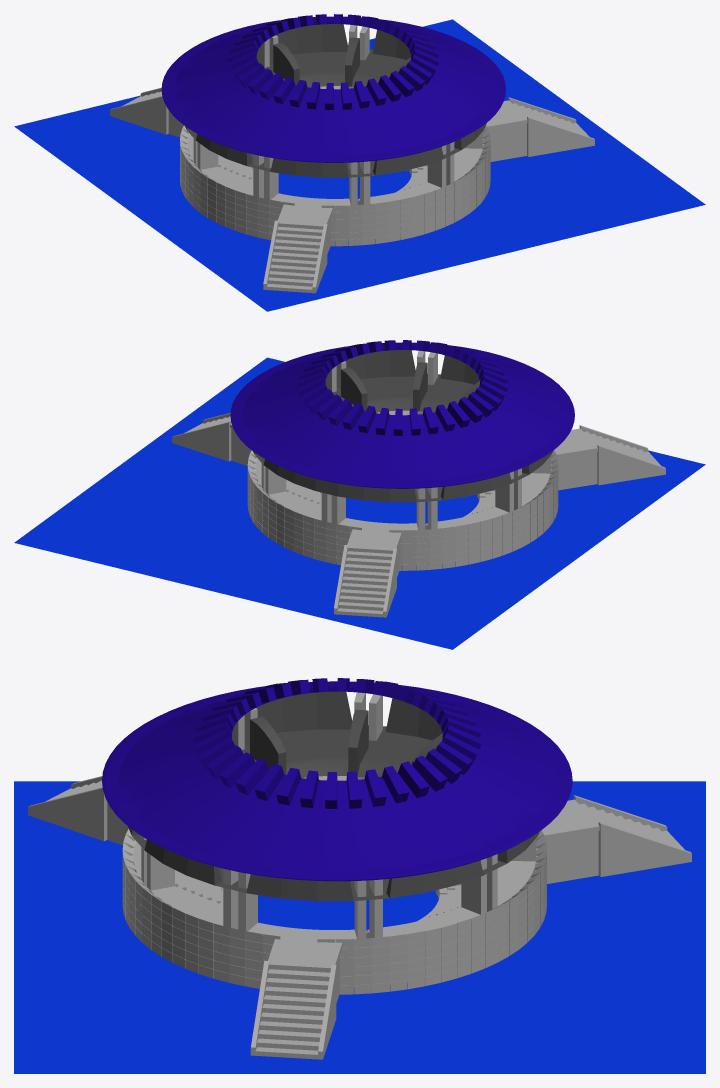
The model's file is stadium_blue.fbx.
The picture shows the model from 3 angles, top to bottom: view 1: azimuth 30°, elevation 25°; view 2: azimuth 150°, elevation 25°; view 3: azimuth 270°, elevation 25°; orthographic projection. The views are drawn at different scales.
Visible parts, largest first — view 1: ten_ten2, Cylinder001, Cylinder002, Box001, LTypeStair002, Box003, LTypeStair003, Box002, Box007, LTypeStair001, Box004; view 2: ten_ten2, Cylinder001, Cylinder002, Box004, LTypeStair001, LTypeStair002, Box008, Box009, Box003, LTypeStair003, Box005; view 3: ten_ten2, Cylinder001, Cylinder002, Box005, LTypeStair003, LTypeStair001, Box007, Box006, Box008, LTypeStair002, Box001.
Boxes of the visible parts, bbox=[...] form: ten_ten2: bbox=[14, 19, 705, 311]; Cylinder001: bbox=[161, 14, 505, 162]; Cylinder002: bbox=[185, 24, 486, 177]; Box001: bbox=[357, 145, 454, 245]; LTypeStair002: bbox=[263, 204, 332, 293]; Box003: bbox=[189, 142, 263, 237]; LTypeStair003: bbox=[486, 97, 594, 161]; Box002: bbox=[257, 156, 362, 246]; Box007: bbox=[395, 132, 490, 222]; LTypeStair001: bbox=[110, 87, 183, 137]; Box004: bbox=[180, 125, 253, 202]; ten_ten2: bbox=[14, 357, 705, 649]; Cylinder001: bbox=[230, 340, 574, 488]; Cylinder002: bbox=[253, 350, 552, 502]; Box004: bbox=[425, 471, 521, 569]; LTypeStair001: bbox=[334, 529, 401, 617]; LTypeStair002: bbox=[554, 425, 665, 490]; Box008: bbox=[257, 467, 331, 561]; Box009: bbox=[325, 488, 429, 570]; Box003: bbox=[464, 456, 558, 547]; LTypeStair003: bbox=[172, 412, 251, 465]; Box005: bbox=[247, 450, 321, 527]; ten_ten2: bbox=[14, 781, 705, 1073]; Cylinder001: bbox=[102, 678, 572, 881]; Cylinder002: bbox=[128, 691, 539, 901]; Box005: bbox=[366, 858, 497, 993]; LTypeStair003: bbox=[250, 938, 342, 1059]; LTypeStair001: bbox=[542, 795, 691, 883]; Box007: bbox=[135, 852, 238, 982]; Box006: bbox=[229, 872, 372, 994]; Box008: bbox=[417, 838, 546, 962]; LTypeStair002: bbox=[28, 776, 128, 845]; Box001: bbox=[122, 829, 223, 935].
Bounding box in the file's own units: 10 × 3.1 × 10.
